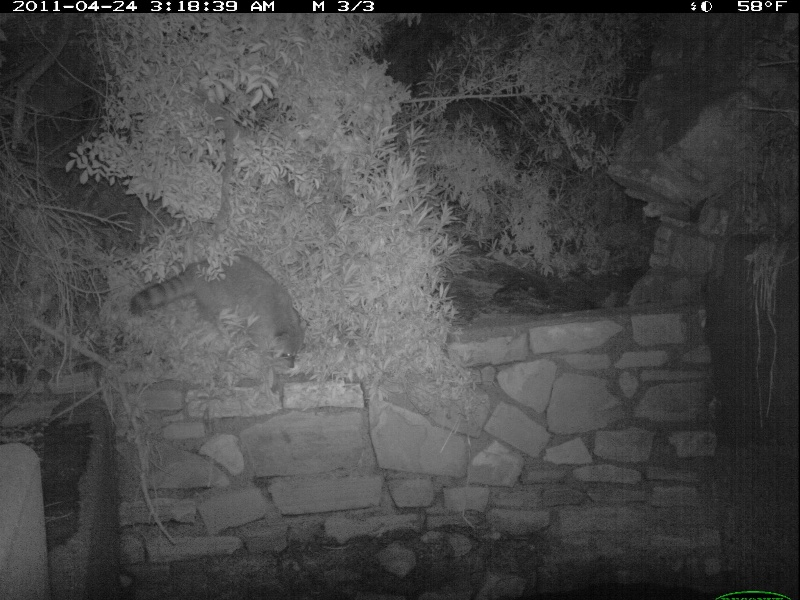raccoon: (128, 249, 305, 373)
